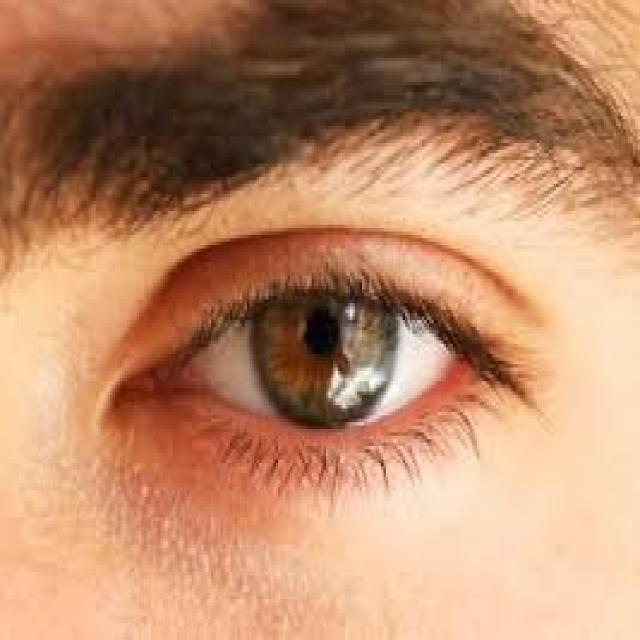Normal: (79, 127, 607, 635)
